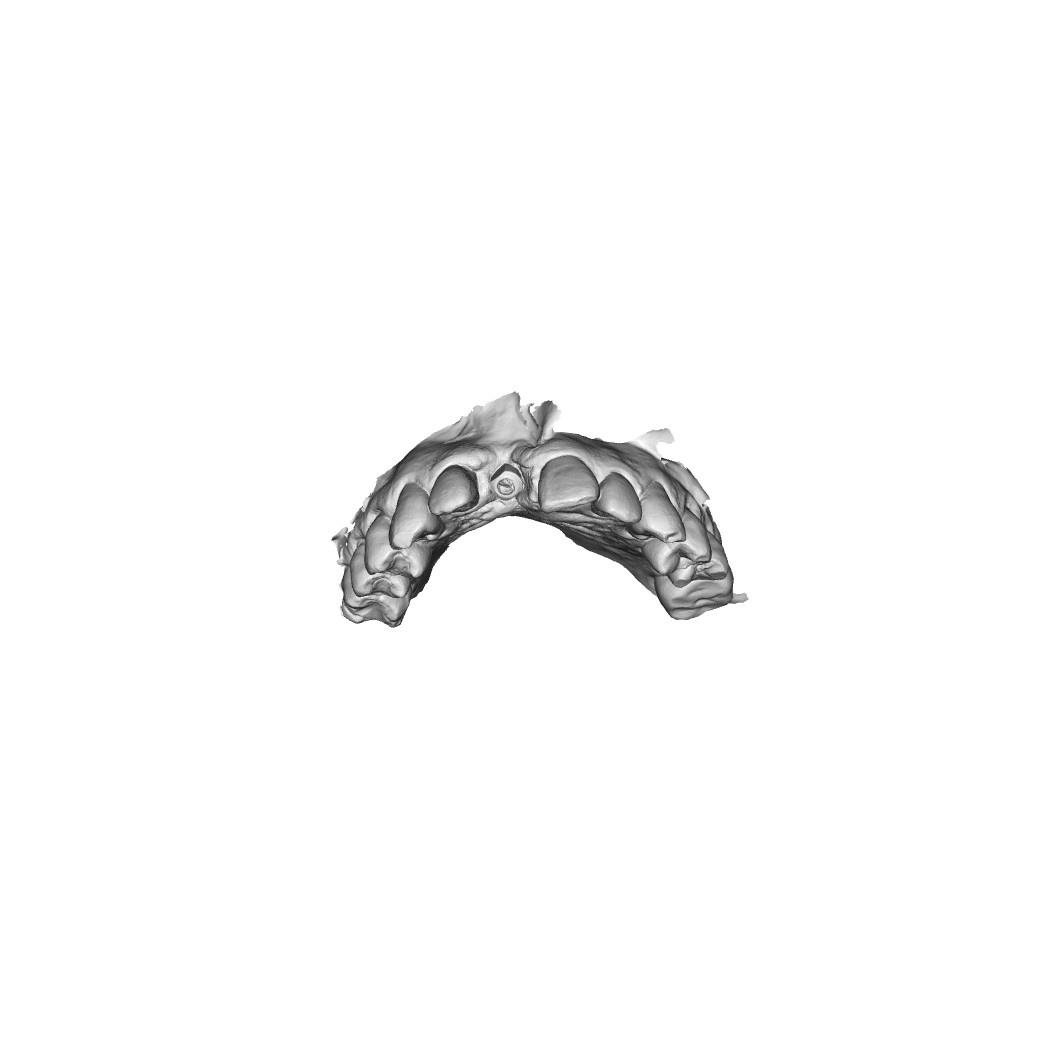canine: (389, 482, 444, 551), (635, 484, 688, 546)
implant: (487, 463, 530, 506)
incisor: (535, 452, 600, 517), (428, 464, 481, 519), (593, 471, 642, 528)
premolar: (363, 513, 434, 584), (643, 517, 712, 578), (347, 549, 411, 600)
